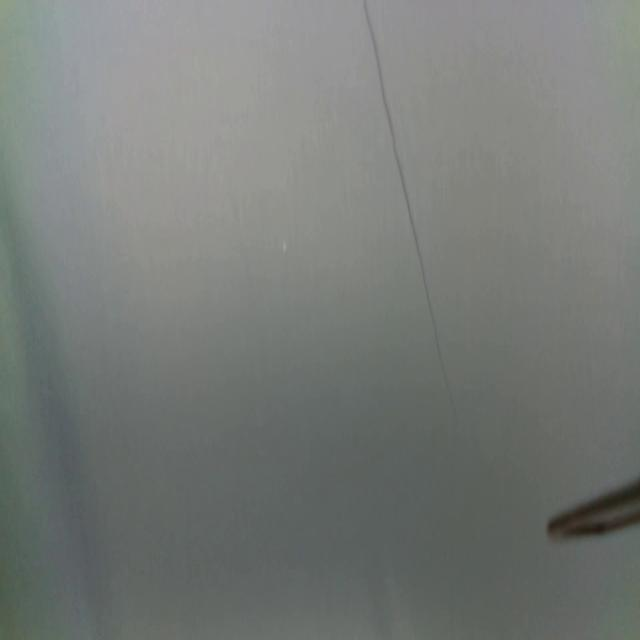crease: (364, 0, 453, 402)
hole: (282, 240, 287, 258)
